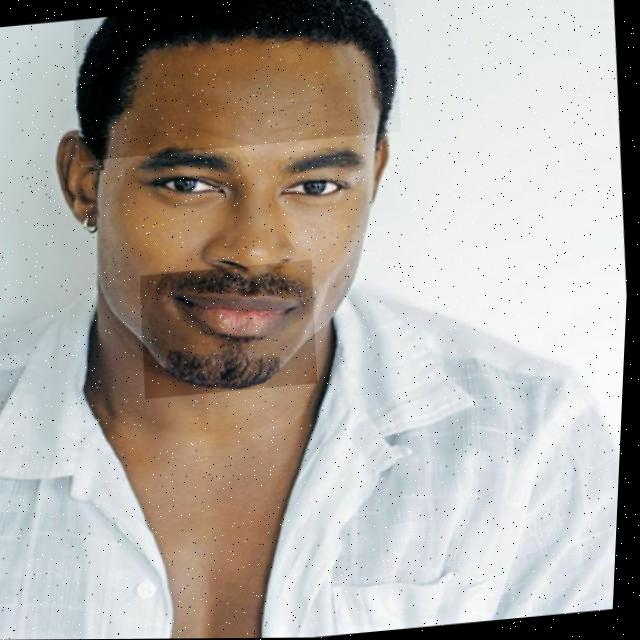beard: (146, 269, 316, 390)
hair: (77, 0, 398, 159)
